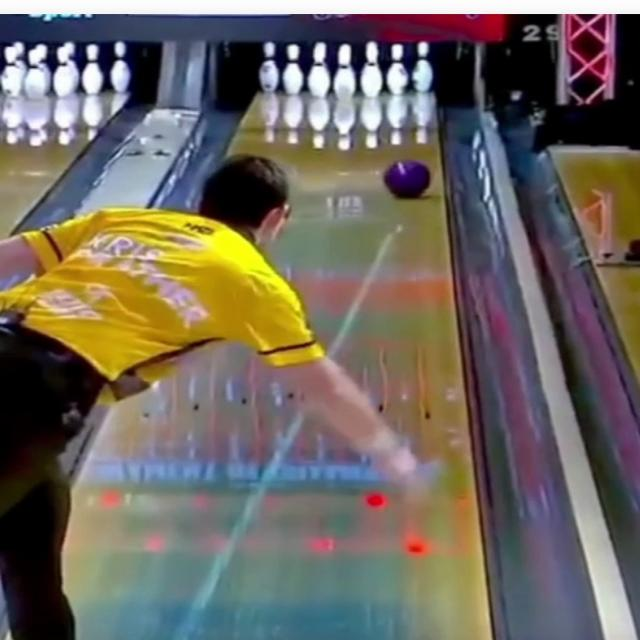alley: (64, 93, 490, 639)
balls: (384, 161, 430, 198)
bottle: (259, 41, 433, 98)
